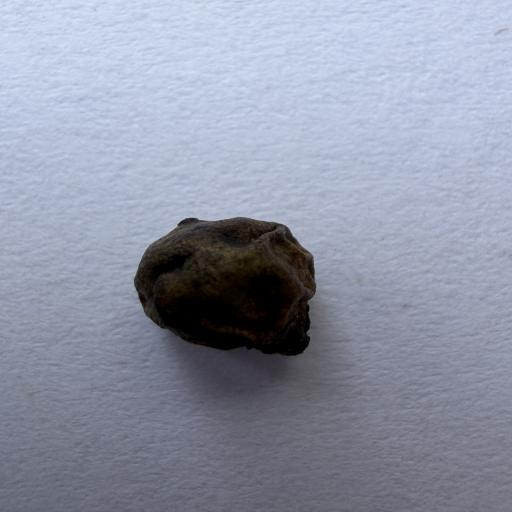Black_pepper: (83, 177, 380, 371)
